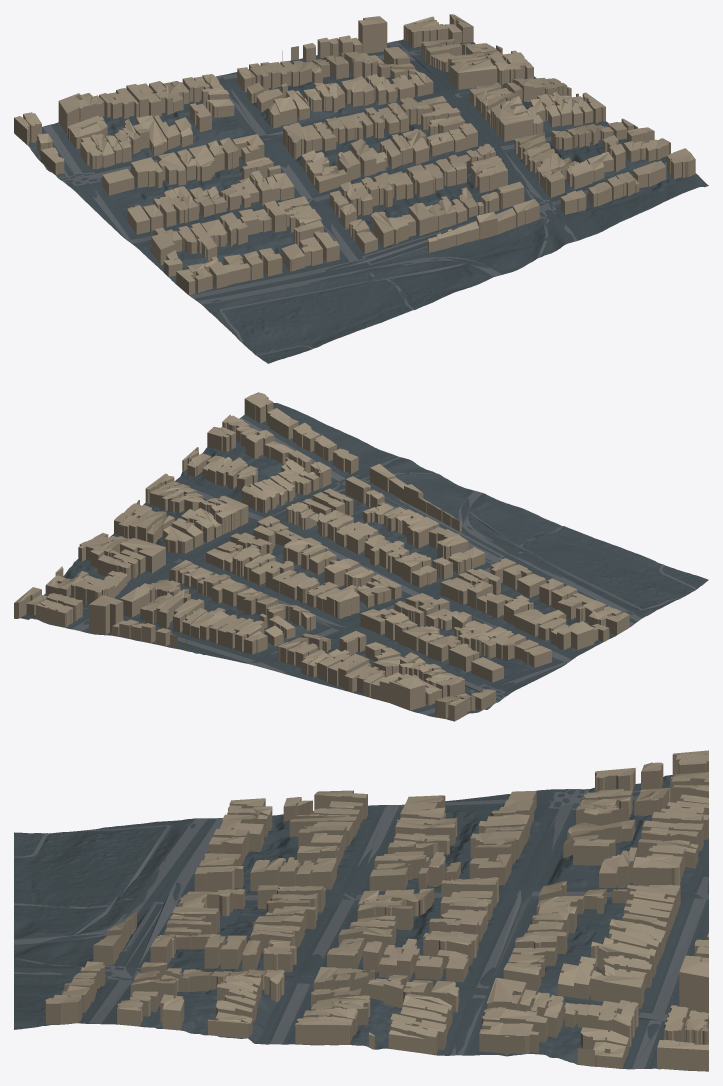
Rendered from epsg26910-1428-10892.lod0.glb.
3 views of the same model, one above another, from view 1: azimuth 30°, elevation 25°; view 2: azimuth 150°, elevation 25°; view 3: azimuth 270°, elevation 25° (orthographic). The views are drawn at different scales.
Parts seen in each view (by area): view 1: epsg26910-1428-10892-lod0; view 2: epsg26910-1428-10892-lod0; view 3: epsg26910-1428-10892-lod0.
Boxes of the visible parts, box(x1,y1,x2,y2) form: epsg26910-1428-10892-lod0: box(14, 14, 708, 363); epsg26910-1428-10892-lod0: box(14, 392, 708, 721); epsg26910-1428-10892-lod0: box(14, 750, 708, 1071).
Bounding box in the file's own units: 384 × 76.43 × 384.
